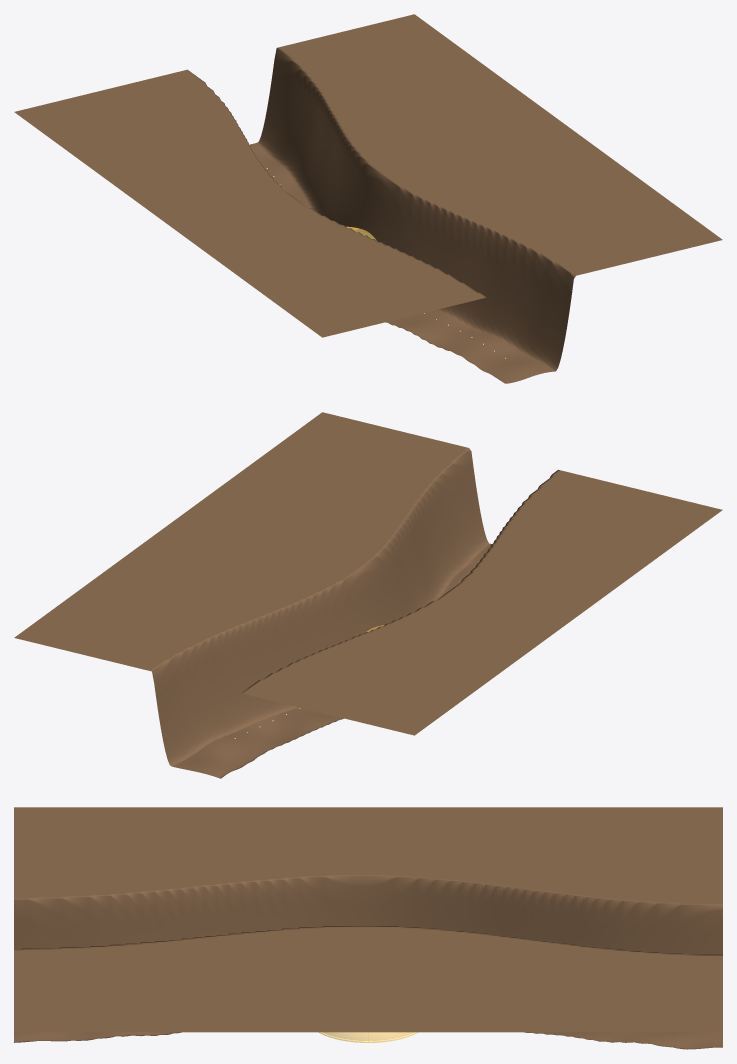
The model's file is houbara_flight_02_zagros_mountains.glb.
3 renders of one model, top to bottom at view 1: azimuth 30°, elevation 25°; view 2: azimuth 150°, elevation 25°; view 3: azimuth 270°, elevation 25°, orthographic. The views are drawn at different scales.
Parts seen in each view (by area): view 1: Terrain_02_zagros_mountains; view 2: Terrain_02_zagros_mountains; view 3: Terrain_02_zagros_mountains, Golden_Checkpoint_Dome.
Boxes of the visible parts, box(x1,y1,x2,y2) form: Terrain_02_zagros_mountains: box(14, 14, 722, 383); Terrain_02_zagros_mountains: box(14, 412, 722, 778); Terrain_02_zagros_mountains: box(14, 807, 722, 1049); Golden_Checkpoint_Dome: box(319, 1032, 417, 1042).
Bounding box in the file's own units: 540 × 123 × 720.
